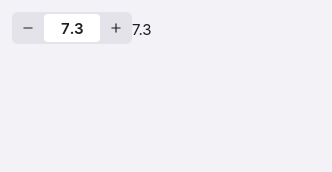
Test: Stepper › accepts typed values, clamps them, and keeps decimal steps exact
Earlier steps of the test are not shown.
Expected: the text with test id "value" reads "7.3", [132,20,151,39]
Replace the text in the number field named "Minimum" with "99" at (72, 28), box [44,14,100,42]
Press Enter in the number field named "Minimum", box [44,14,100,42]
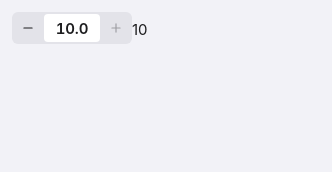
Expected: the number field named "Minimum" holds "10.0"
Replace the text in the number field named "Minimum" with "abc" at (72, 28), box [44,14,100,42]
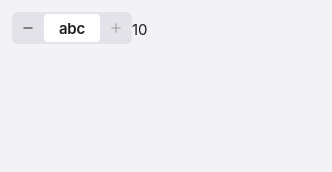
Leave the number field named "Minimum", box [44,14,100,42]
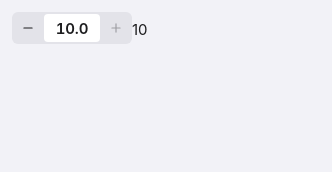
Expected: the number field named "Minimum" holds "10.0"
Press ArrowDown in the number field named "Minimum", box [44,14,100,42]
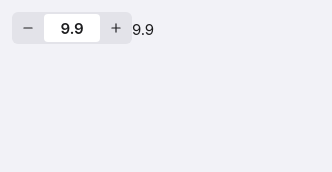
Press ArrowDown in the number field named "Minimum", box [44,14,100,42]
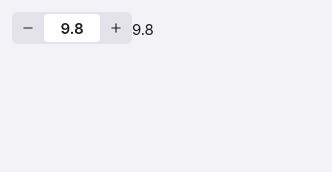
Press ArrowDown in the number field named "Minimum", box [44,14,100,42]
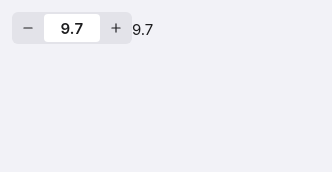
Expected: the text with test id "value" reads "9.7", [132,20,153,39]
